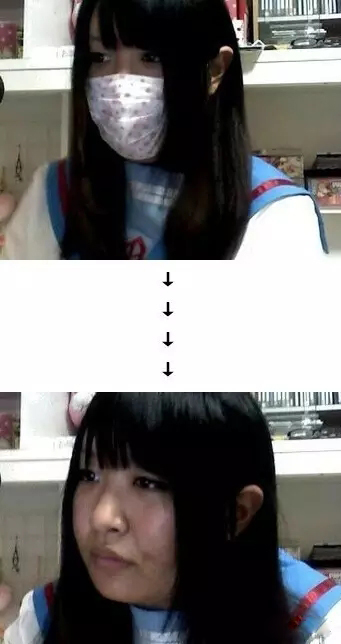face: (70, 408, 180, 602)
face_mask: (84, 15, 175, 159)
